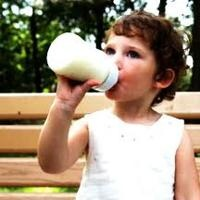person without safety: (38, 11, 195, 177)
